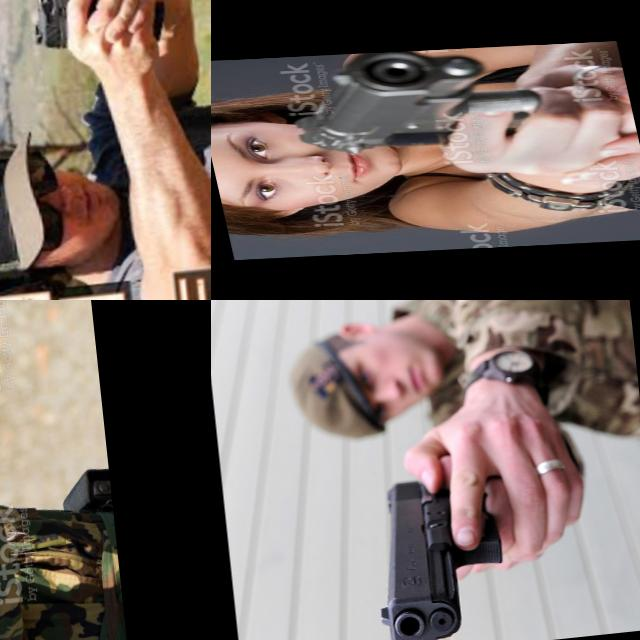handgun: (360, 419, 604, 640), (276, 44, 563, 158), (26, 0, 172, 59), (0, 319, 63, 428)
